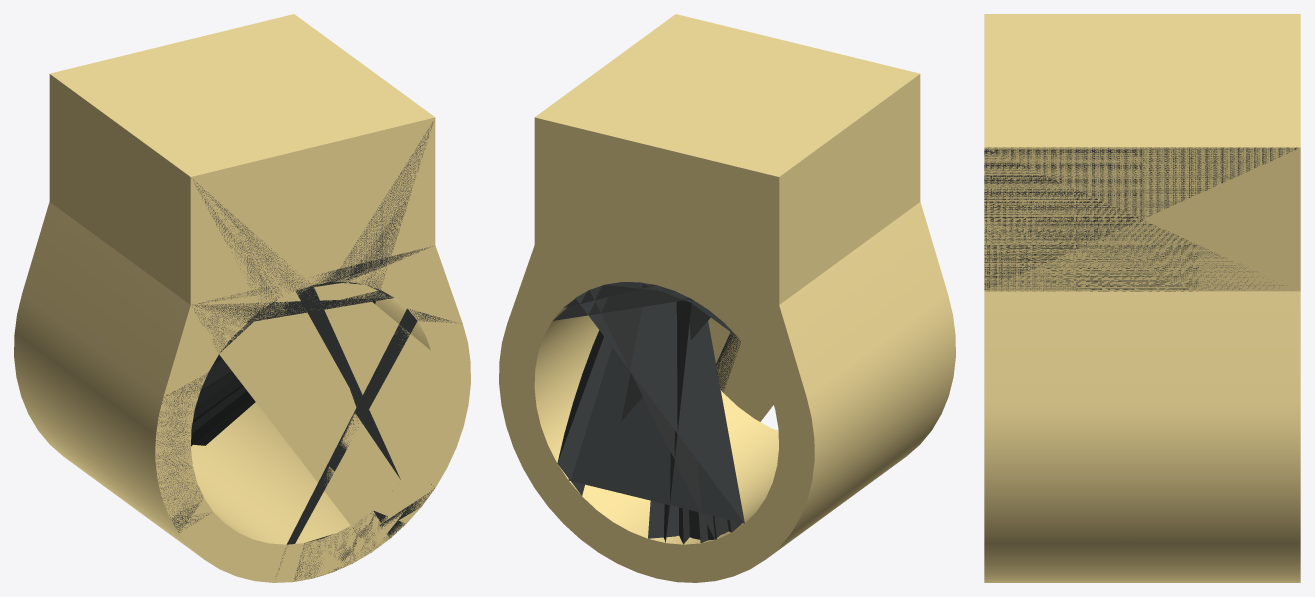
The model's file is lleg_link1.dae.
3 renders of one model, left to right at view 1: azimuth 30°, elevation 25°; view 2: azimuth 150°, elevation 25°; view 3: azimuth 270°, elevation 25°, orthographic. The views are drawn at different scales.
Parts seen in each view (by area): view 1: node0, node2, node1; view 2: node0, node1, node2; view 3: node0, node1.
Part boxes in pixels (bbox=[...]): node0: bbox=[14, 14, 470, 582]; node2: bbox=[191, 179, 469, 577]; node1: bbox=[155, 122, 461, 580]; node0: bbox=[499, 14, 955, 582]; node1: bbox=[553, 282, 744, 544]; node2: bbox=[708, 318, 773, 421]; node0: bbox=[984, 14, 1300, 582]; node1: bbox=[984, 147, 1297, 291].
Bounding box in the file's own units: 0.0258 × 0.0337 × 0.02.
